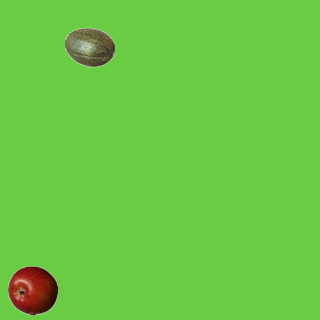Apple Braeburn: (7, 265, 57, 315)
Melon Piel de Sapo: (64, 22, 114, 72)
